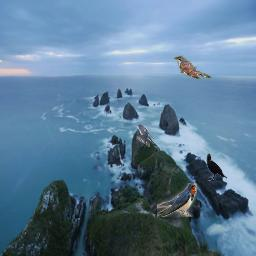Crow: (206, 153, 227, 181)
Cuckoo: (174, 55, 211, 81)
Swallow: (157, 183, 197, 217), (136, 124, 154, 147)
